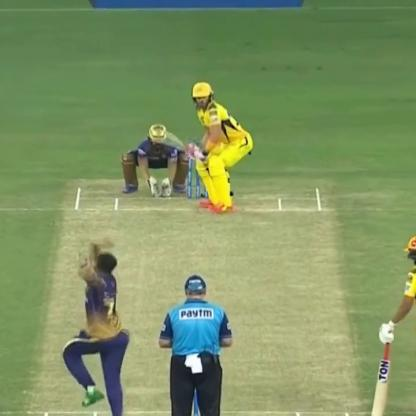bat: (146, 125, 206, 165)
pitch: (28, 176, 373, 415)
